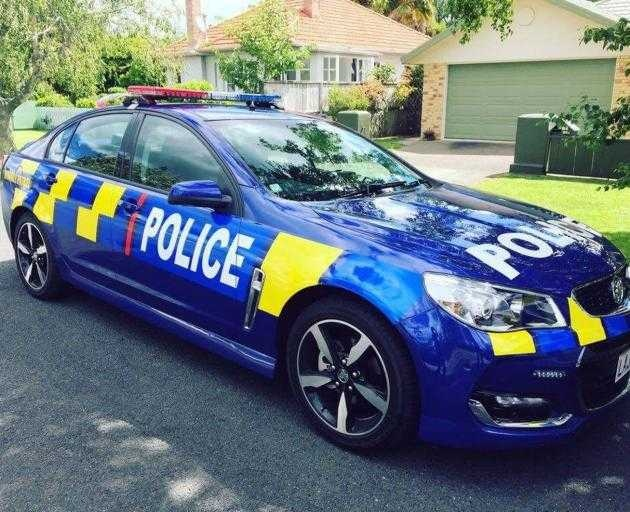Police Car: (6, 70, 630, 492)
